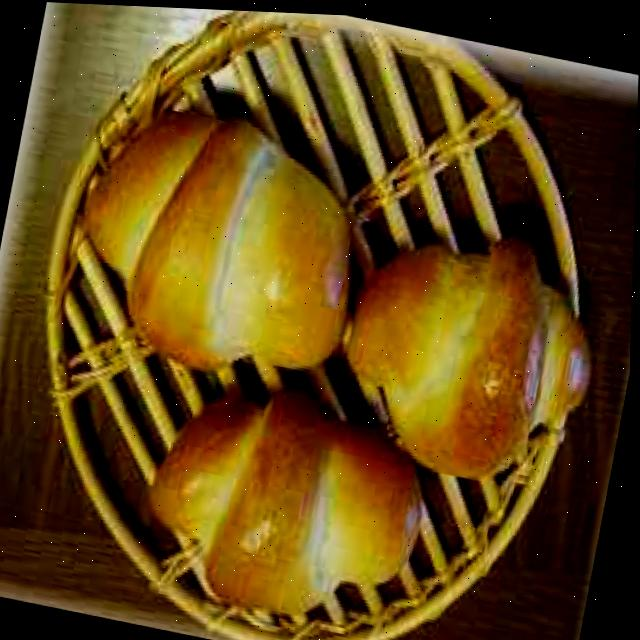面包点心: (22, 93, 623, 640)
